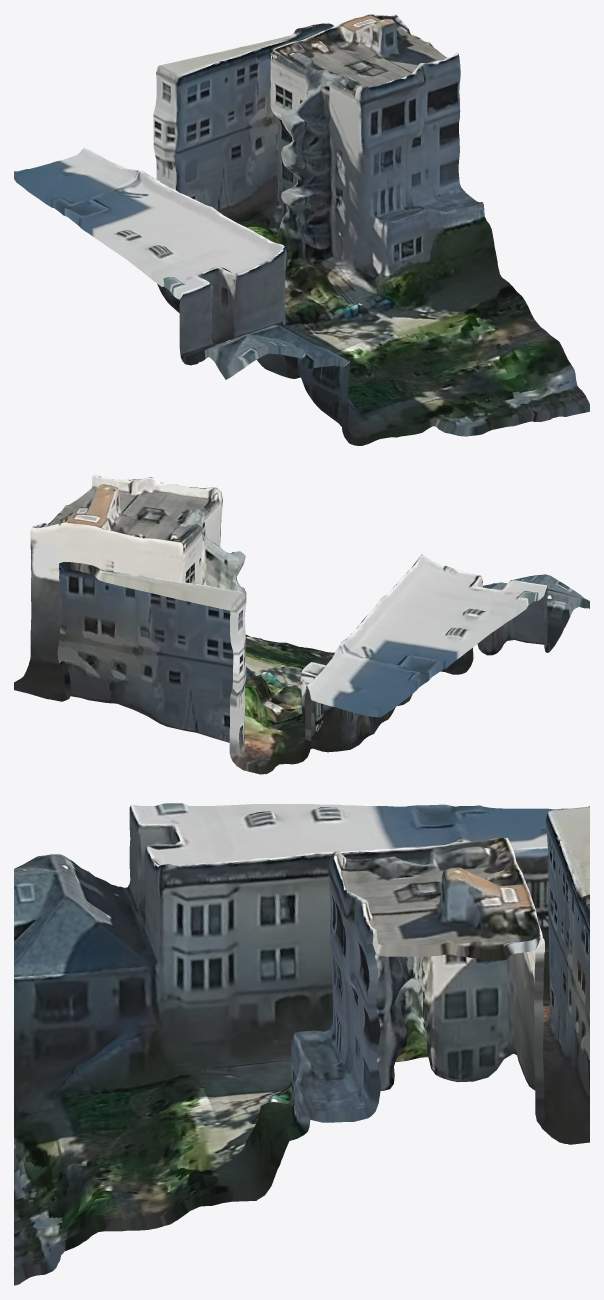
File: z20-167722-405196-h0-yup-uvflip-v3-world.glb
3 renders of one model, top to bottom at view 1: azimuth 30°, elevation 25°; view 2: azimuth 150°, elevation 25°; view 3: azimuth 270°, elevation 25°, orthographic. The views are drawn at different scales.
Size of the model in its own units: 30.16 by 22.36 by 30.32.
Materials: 1 (1 with a texture image).
